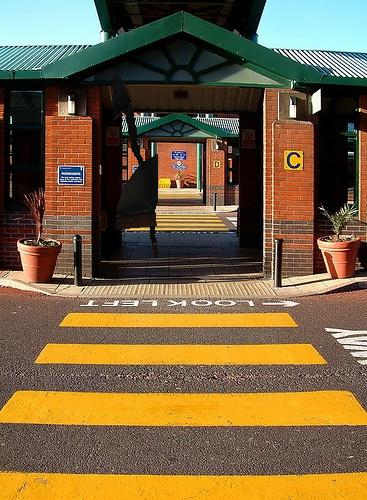tampered: (114, 74, 158, 258)
